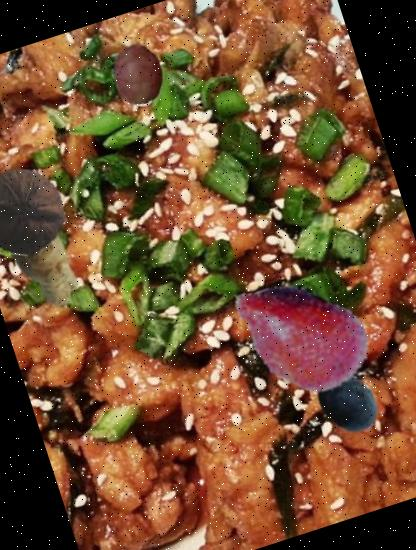Blueberry: (304, 357, 392, 444)
Ginger: (0, 196, 109, 325)
Grape: (100, 36, 178, 112)
Salak: (204, 242, 389, 428)
Walnut: (0, 155, 77, 266)
